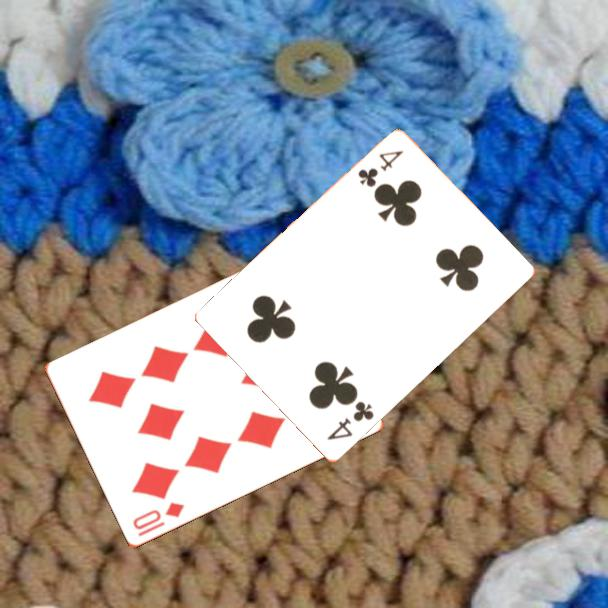c04: (323, 398, 377, 444), (354, 147, 407, 191)
d10: (129, 499, 187, 540)
